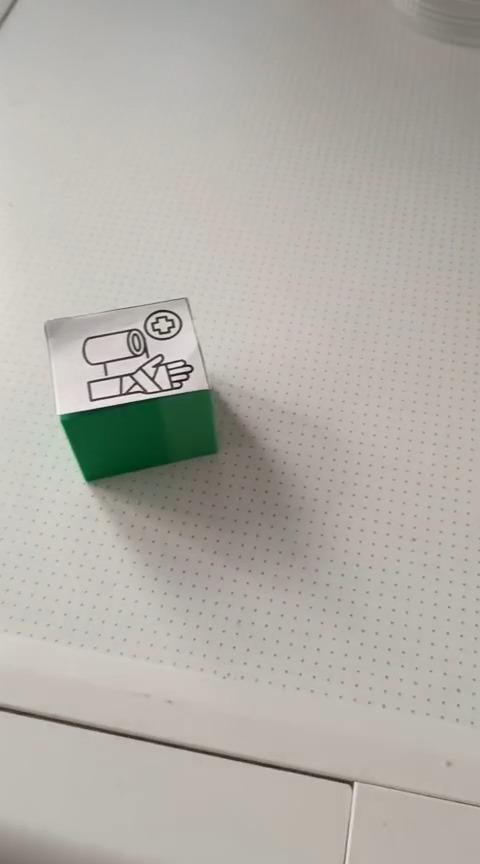Bandages: (43, 296, 219, 480)
